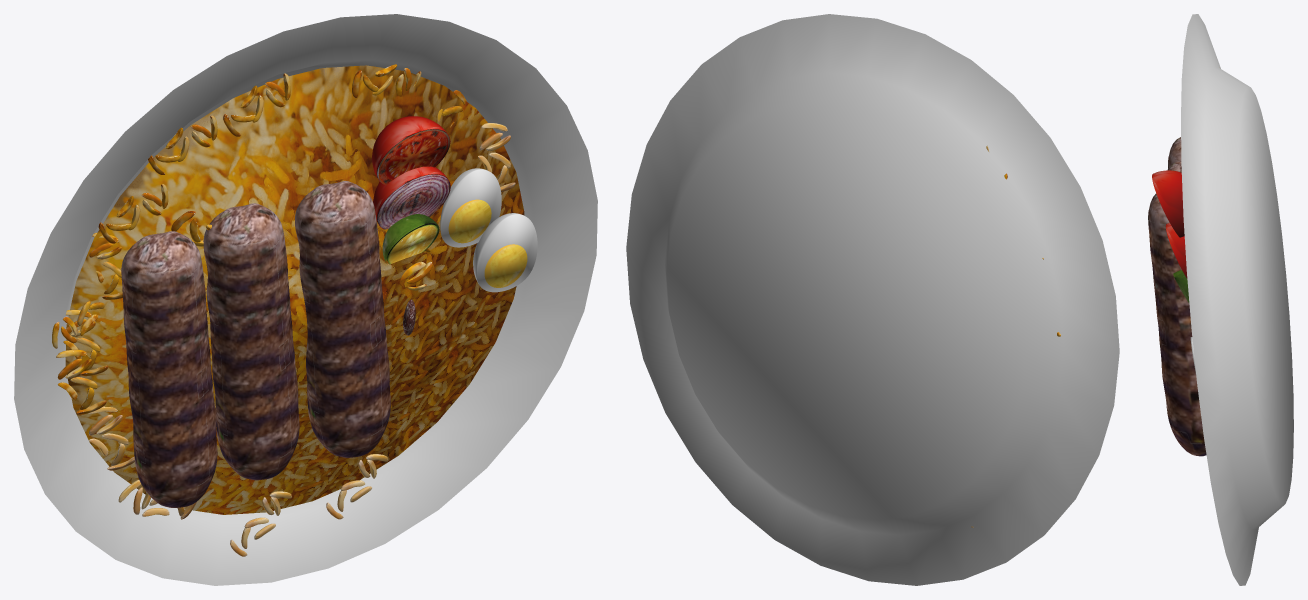
Rendered from solo_kabab.glb.
3 views of the same model, side by side, from view 1: azimuth 30°, elevation 25°; view 2: azimuth 150°, elevation 25°; view 3: azimuth 270°, elevation 25° (orthographic). The views are drawn at different scales.
Parts seen in each view (by area): view 1: Circle.002, Cone, Cylinder.002, Cylinder.003, Cylinder.001, Sphere.001, Sphere, Sphere.004, Sphere.008, Sphere.007, Plane.004, Plane.003 (+14 smaller); view 2: Circle.002; view 3: Circle.002, Cylinder.001, Sphere.007, Sphere.003, Cylinder.002, Sphere.005.
Boxes of the visible parts, x1,y1,x2,y2 form: Circle.002: (14,14,597,585); Cone: (65,65,524,514); Cylinder.002: (121,231,217,507); Cylinder.003: (203,203,299,480); Cylinder.001: (295,181,390,457); Sphere.001: (473,213,537,292); Sphere: (440,168,501,247); Sphere.004: (377,174,450,229); Sphere.008: (377,129,449,184); Sphere.007: (372,116,450,184); Plane.004: (56,349,106,414); Plane.003: (87,406,134,470); Circle.002: (626,14,1119,585); Circle.002: (1181,14,1293,585); Cylinder.001: (1148,193,1206,456); Sphere.007: (1152,170,1184,237); Sphere.003: (1165,222,1187,278); Cylinder.002: (1168,137,1181,168); Sphere.005: (1173,270,1189,303).
Bounding box in the file's own units: 7.81 × 7.77 × 1.98.
Materials: 35 (32 with a texture image).
